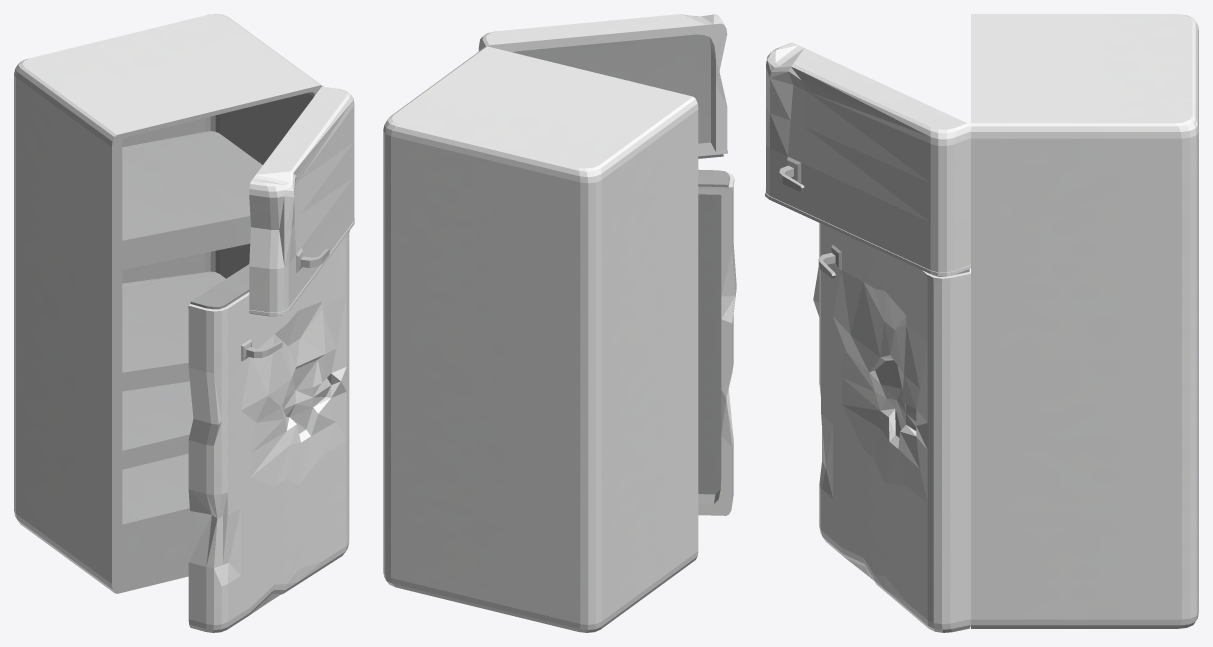
Rendered from fridge_1_opened.dae.
3 renders of one model, left to right at view 1: azimuth 30°, elevation 25°; view 2: azimuth 150°, elevation 25°; view 3: azimuth 270°, elevation 25°, orthographic. The views are drawn at different scales.
Visible parts, largest first — view 1: fridge_open_2, lower_door, upper_door; view 2: fridge_open_2, upper_door, lower_door; view 3: fridge_open_2, lower_door, upper_door.
Boxes of the visible parts, box(x1,y1,x2,y2) form: fridge_open_2: box(14, 14, 322, 593); lower_door: box(188, 231, 349, 632); upper_door: box(249, 86, 354, 316); fridge_open_2: box(383, 46, 698, 632); upper_door: box(478, 14, 727, 158); lower_door: box(698, 169, 736, 515); fridge_open_2: box(971, 14, 1198, 628); lower_door: box(813, 223, 970, 632); upper_door: box(765, 42, 970, 276).
Bounding box in the file's own units: 0.7539 × 1.13 × 1.45.
